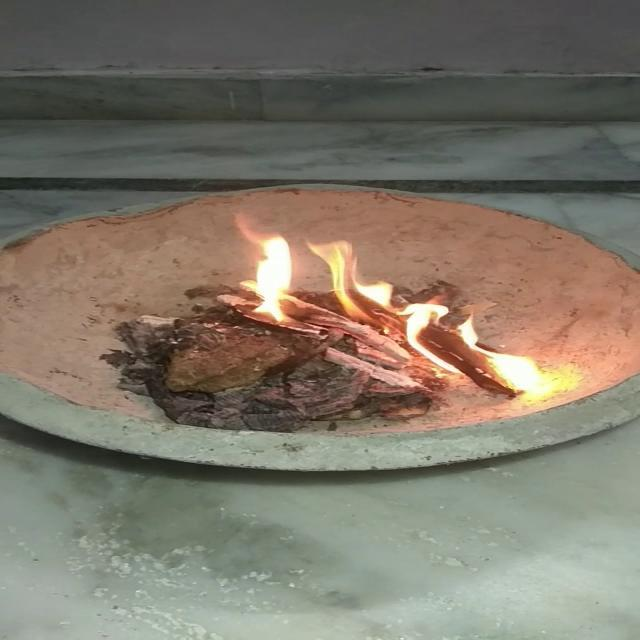Fire: (200, 224, 594, 396)
